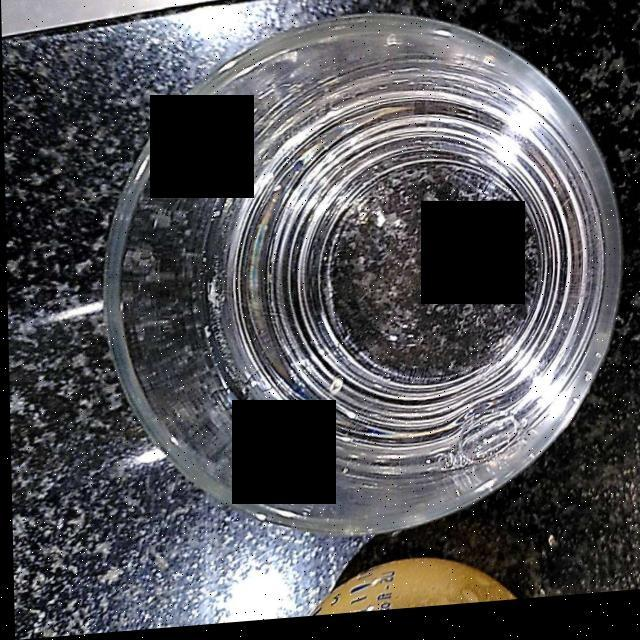water: (226, 99, 577, 469)
